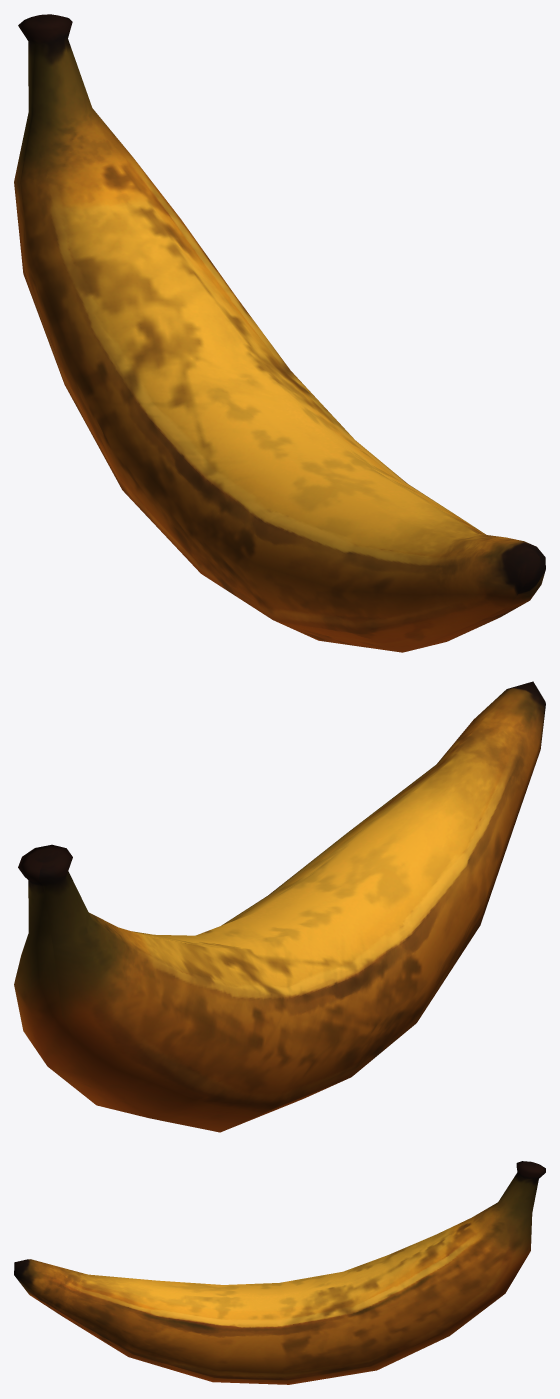
Rendered from Plantain_Ripe.fbx.
3 views of the same model, one above another, from view 1: azimuth 30°, elevation 25°; view 2: azimuth 150°, elevation 25°; view 3: azimuth 270°, elevation 25° (orthographic). The views are drawn at different scales.
Parts seen in each view (by area): view 1: Plantain_Ripe; view 2: Plantain_Ripe; view 3: Plantain_Ripe.
Part boxes in pixels (x1=…): Plantain_Ripe: x1=14, y1=14, x2=545, y2=652; Plantain_Ripe: x1=14, y1=681, x2=545, y2=1132; Plantain_Ripe: x1=14, y1=1161, x2=545, y2=1384.
Size of the model in its own units: 24.31 by 50.88 by 115.
